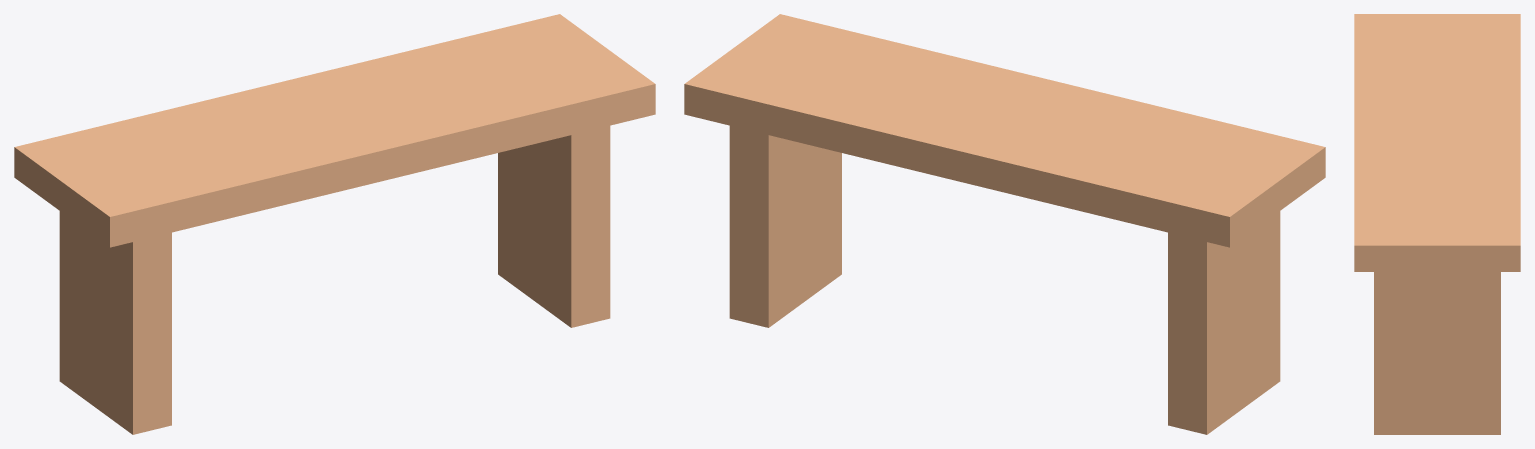
3 views of the same model, side by side, from view 1: azimuth 30°, elevation 25°; view 2: azimuth 150°, elevation 25°; view 3: azimuth 270°, elevation 25° (orthographic). The views are drawn at different scales.
Visible parts, largest first — view 1: Bench seat, Bench support, Bench support.001; view 2: Bench seat, Bench support, Bench support.001; view 3: Bench seat, Bench support.001.
Part boxes in pixels (x1=…): Bench seat: x1=14, y1=14, x2=655, y2=247; Bench support: x1=59, y1=211, x2=171, y2=434; Bench support.001: x1=498, y1=125, x2=610, y2=327; Bench seat: x1=684, y1=14, x2=1325, y2=247; Bench support: x1=1168, y1=211, x2=1280, y2=434; Bench support.001: x1=729, y1=125, x2=841, y2=327; Bench seat: x1=1354, y1=14, x2=1520, y2=271; Bench support.001: x1=1374, y1=272, x2=1500, y2=434.
Size of the model in its own units: 112 by 46 by 34.
